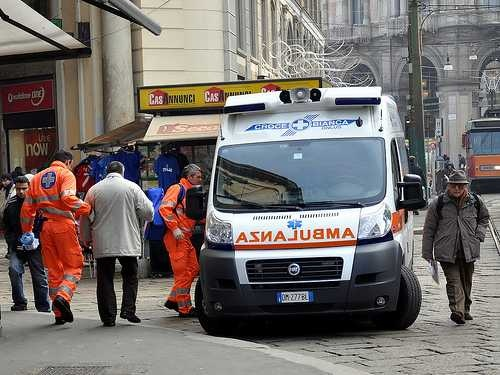Ambulance: (191, 73, 420, 348)
